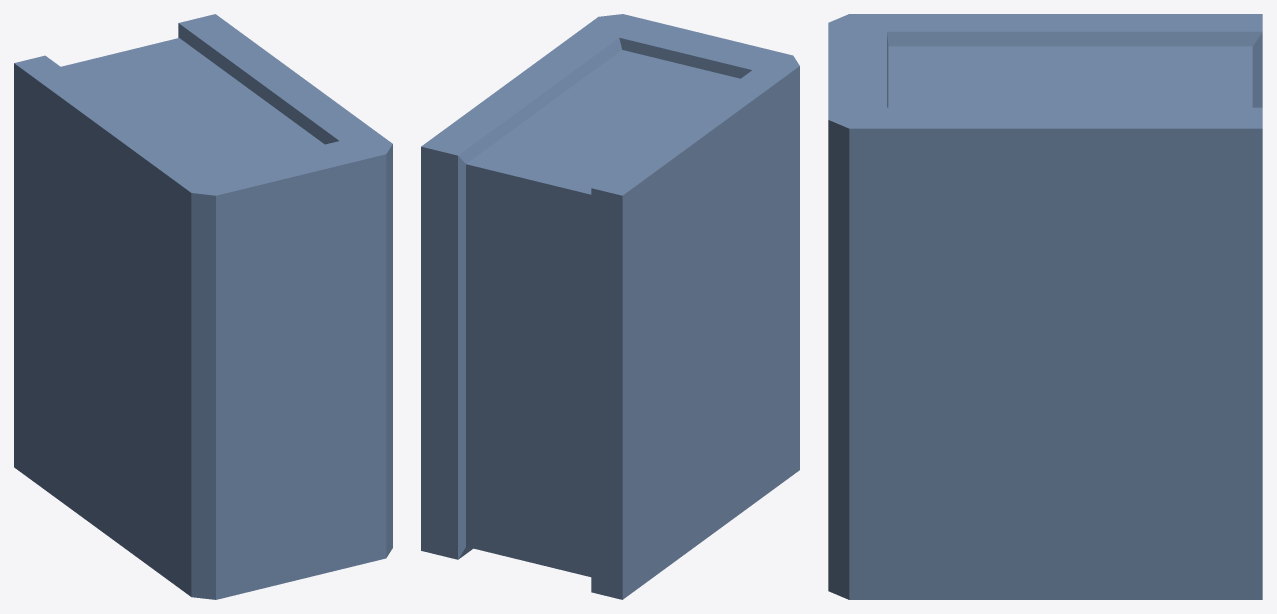
The model's file is book1.fbx.
The picture shows the model from 3 angles, left to right: view 1: azimuth 30°, elevation 25°; view 2: azimuth 150°, elevation 25°; view 3: azimuth 270°, elevation 25°; orthographic projection. The views are drawn at different scales.
Parts seen in each view (by area): view 1: book1; view 2: book1; view 3: book1.
Boxes of the visible parts, <box> form: book1: <box>14,14,392,599</box>; book1: <box>421,14,799,599</box>; book1: <box>828,14,1262,599</box>.
Bounding box in the file's own units: 10.11 × 19.37 × 16.19.
